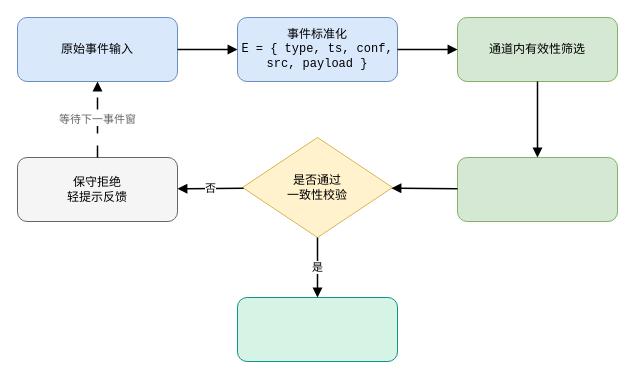
Image size: 635x379. Some labels were removed from this diagram. The centre of each missing label's shape, as x and y in pixels:
"写入统一事件队列 串行提交状态" belongs at pixel 317 329.
"跨通道冲突仲裁 （优先级 + 时间戳 + 置信度）" belongs at pixel 537 189.
